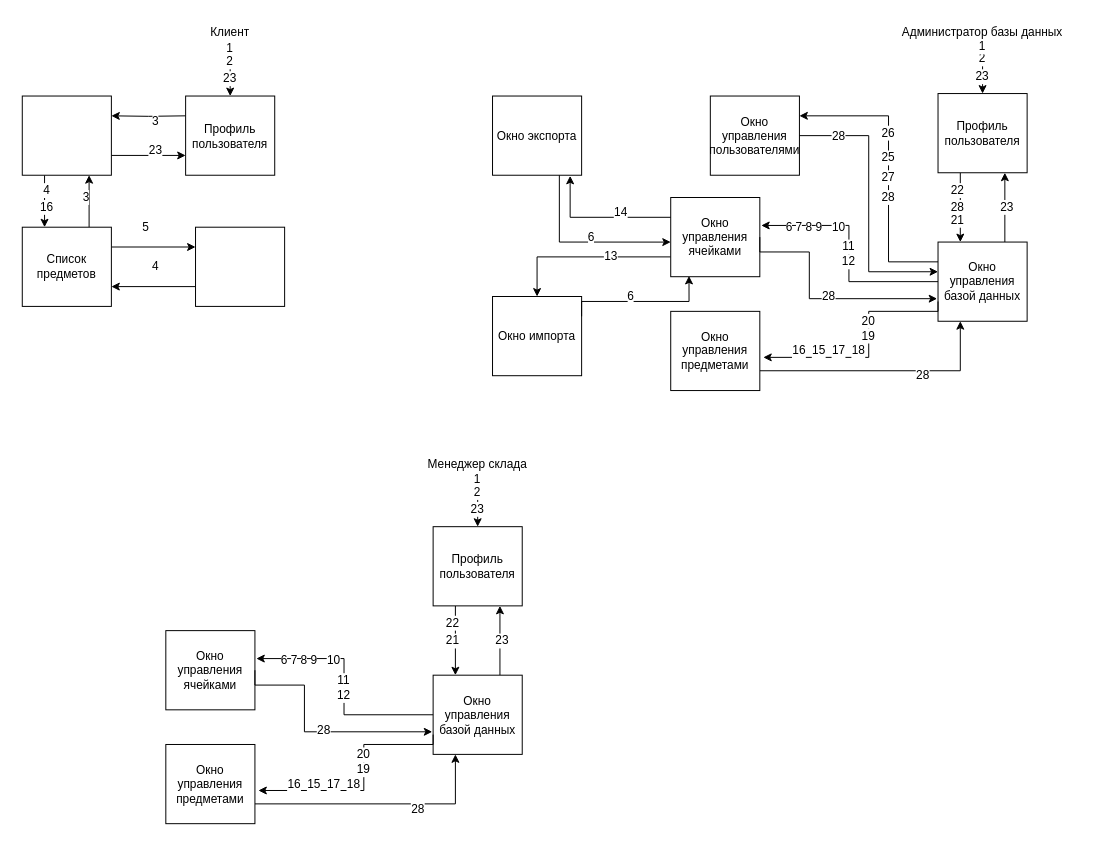
This 1103x842 diagram has some shape labels left out. The centre of each missing label's shape, as x and y in pixels:
"Описание предмета" goes at point (240, 266).
"Список ячеек" goes at point (66, 135).
